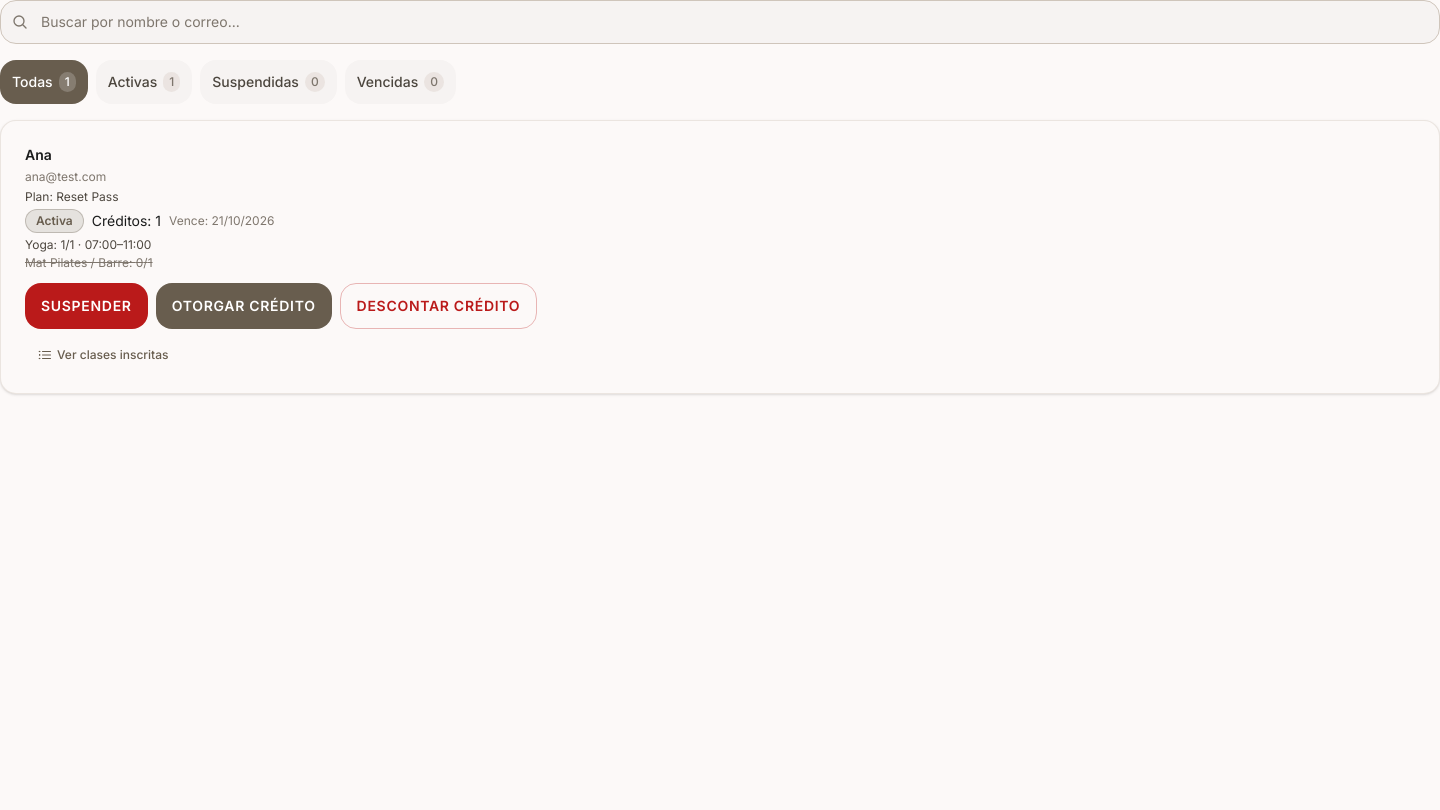
Test case: SubscriptionManagement — paquetes especiales › +1 pide el grupo, deshabilita los llenos y envía balanceId
The width and height of the screenshot is (1440, 810).
What coordinates should you click on to do the following:
click the button "Otorgar Crédito"
I would click on:
 (244, 306)
Its box is [156,283,332,329].
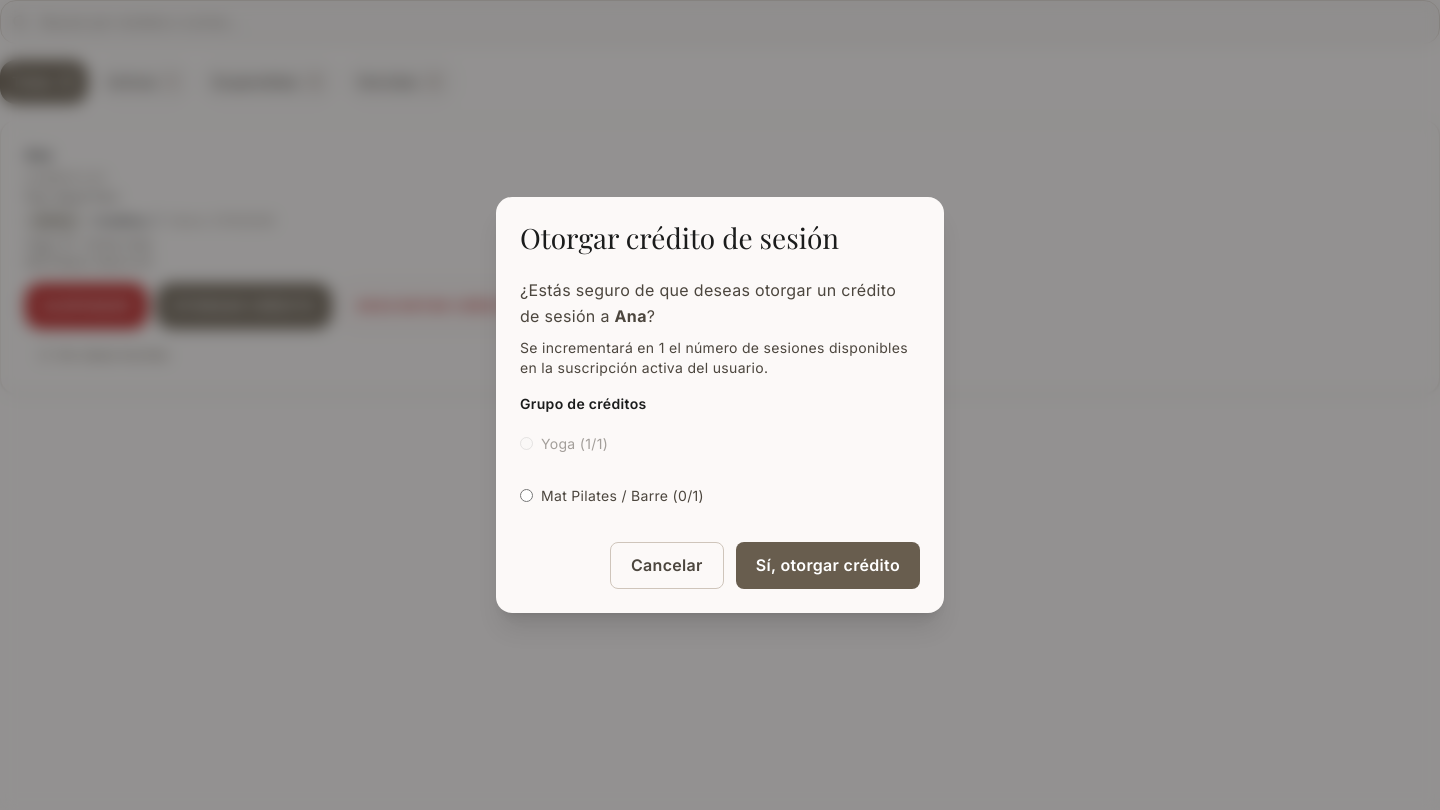
What coordinates should you click on to do the following:
click the button "Sí, otorgar crédito"
I would click on:
 (828, 565)
Its box is [736,542,920,589].
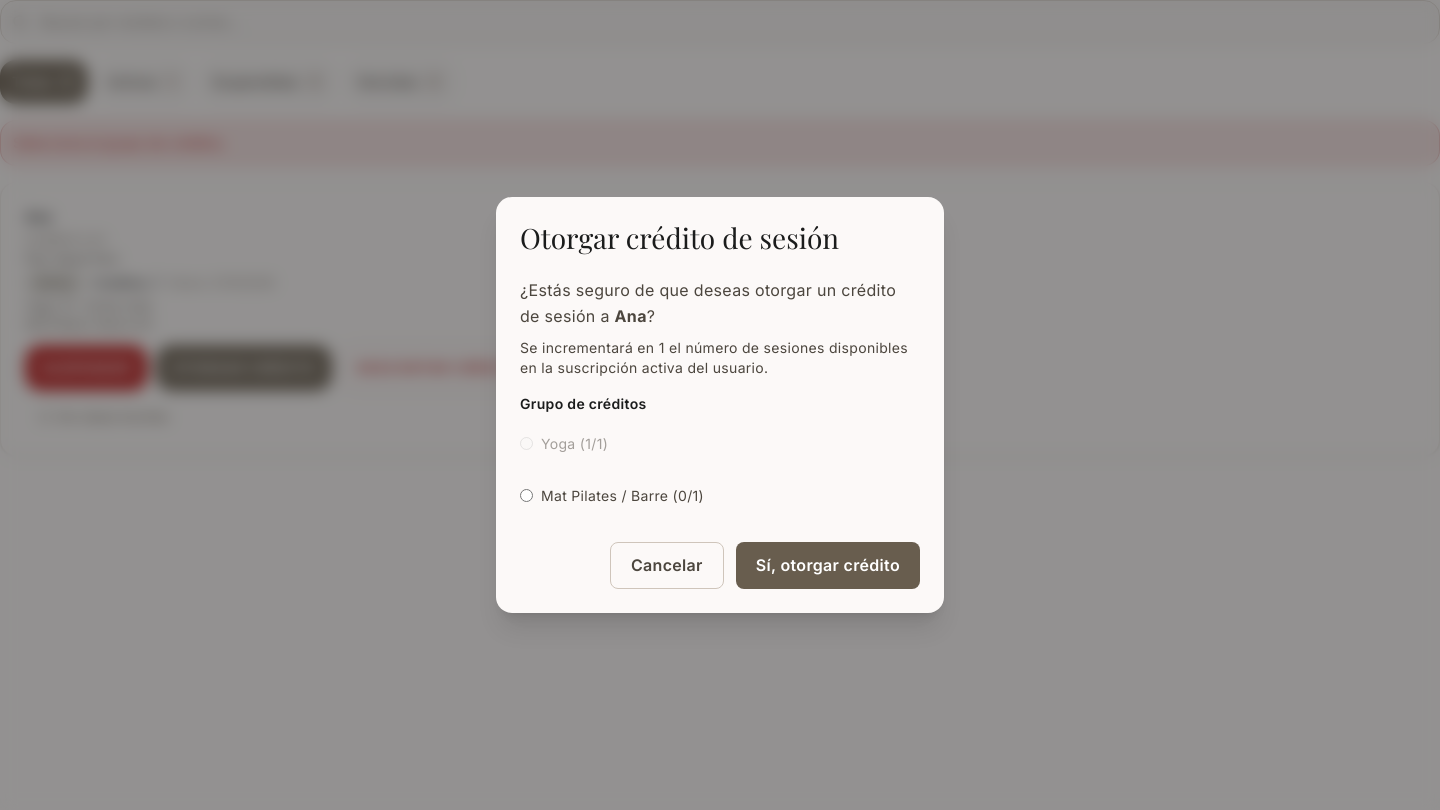
What coordinates should you click on to do the following:
click the radio button labelled "Mat Pilates / Barre (0/1)"
I would click on:
 (526, 496)
Its box is [520,489,533,502].
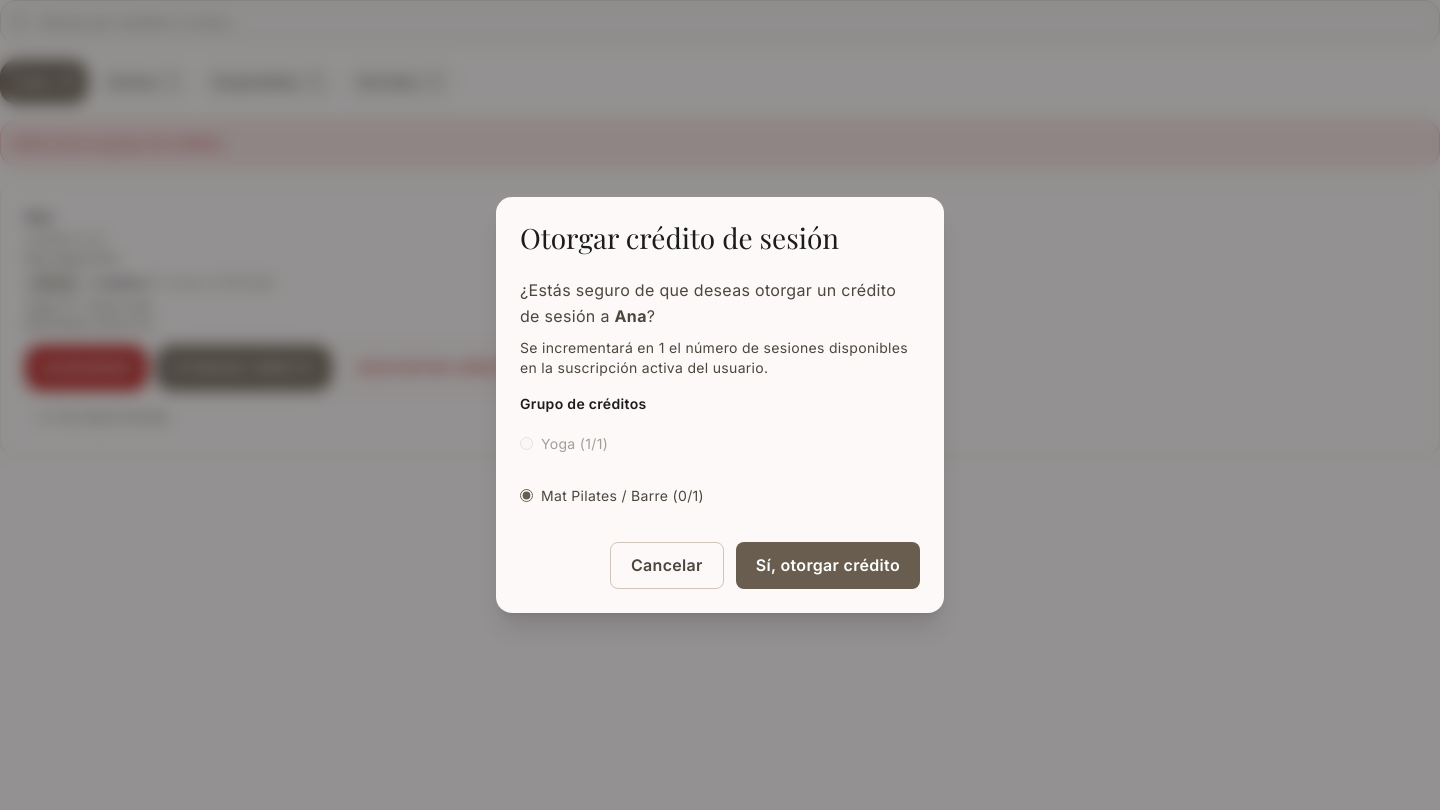
What coordinates should you click on to do the following:
click the button "Sí, otorgar crédito"
I would click on:
 (828, 565)
Its box is [736,542,920,589].
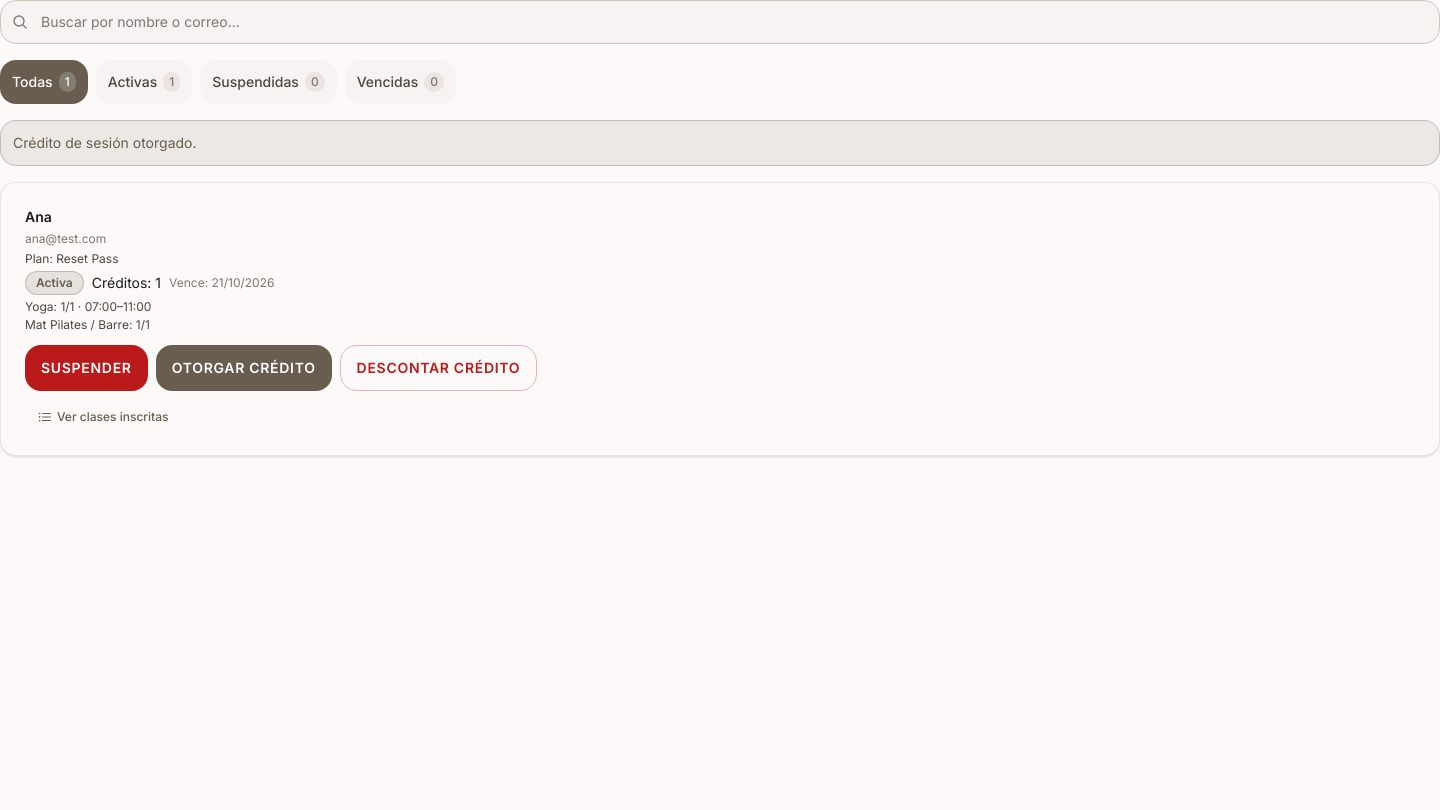
Result: the list item "Mat Pilates / Barre: 1/1" is shown at [25,317,150,332]
